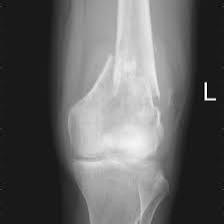pathological-fracture: (51, 0, 196, 224)
